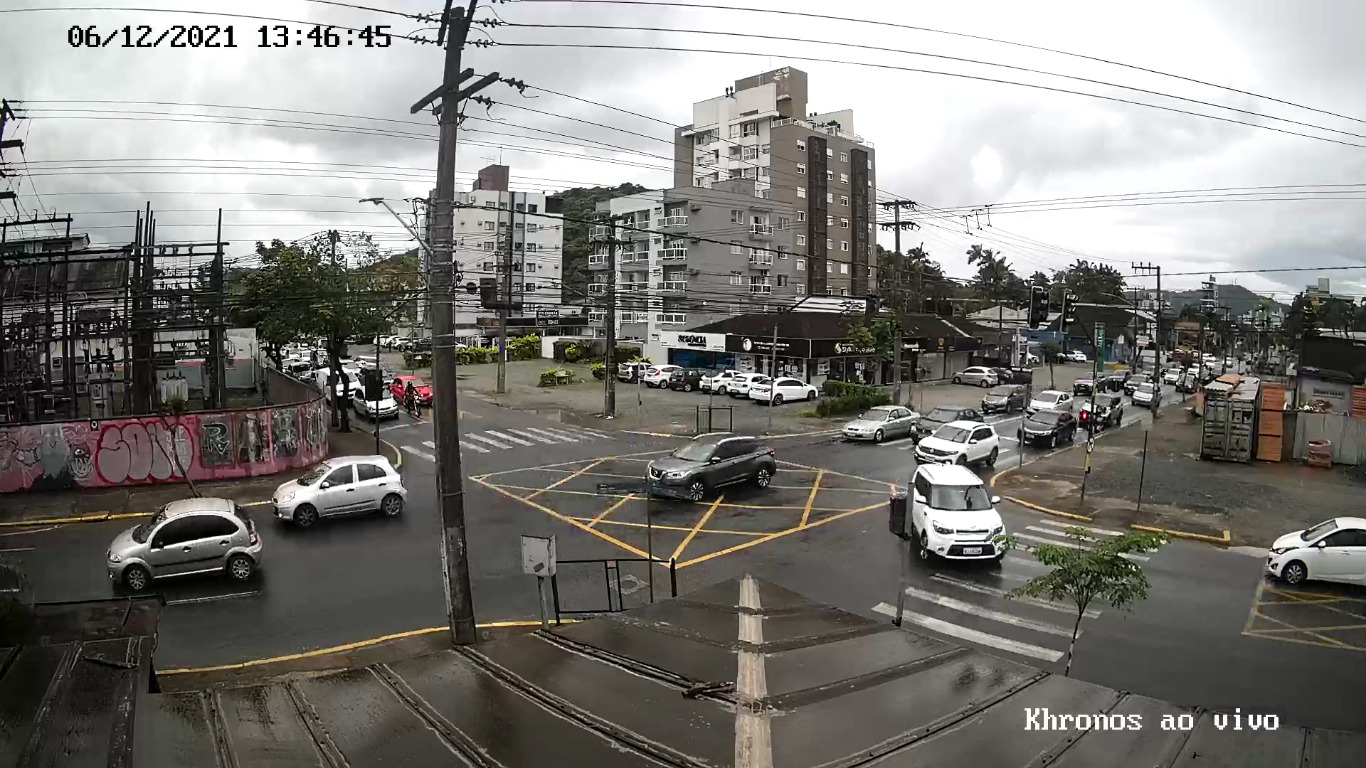car: (105, 496, 263, 593), (908, 463, 1009, 567), (270, 455, 407, 530), (645, 431, 777, 503)
